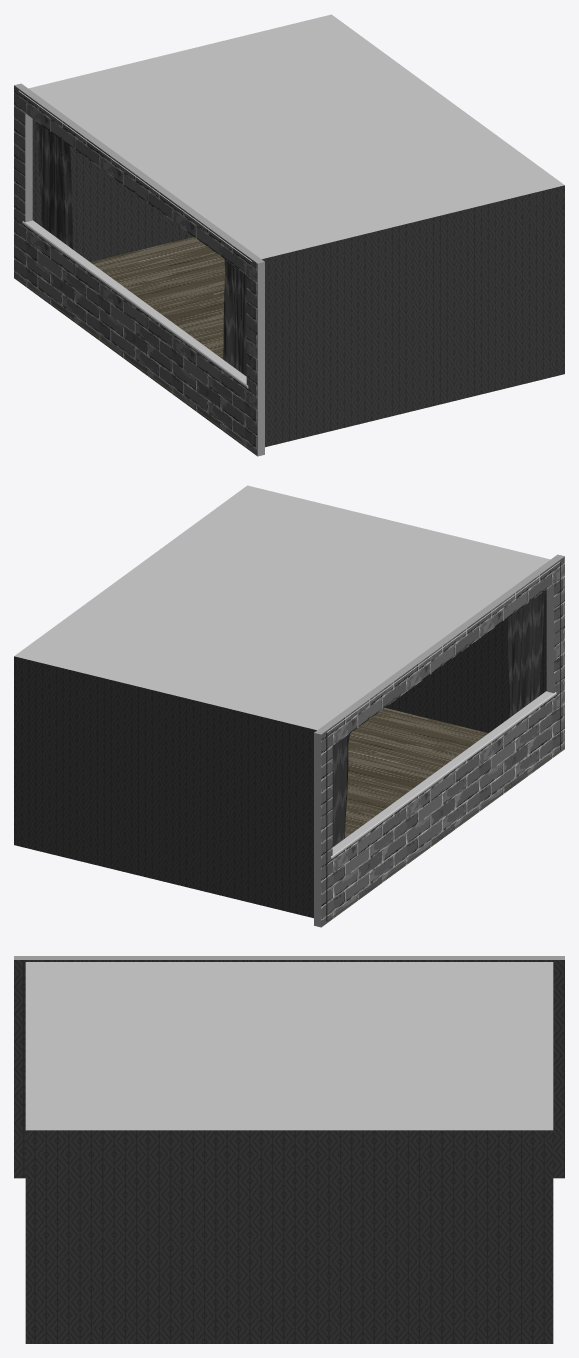
File: playerroom 1.fbx
The picture shows the model from 3 angles, top to bottom: view 1: azimuth 30°, elevation 25°; view 2: azimuth 150°, elevation 25°; view 3: azimuth 270°, elevation 25°; orthographic projection. The views are drawn at different scales.
Visible parts, largest first — view 1: Player_Room; view 2: Player_Room; view 3: Player_Room.
Part boxes in pixels (box(x1,y1,x2,y2)): Player_Room: box(14, 14, 564, 456); Player_Room: box(14, 485, 564, 927); Player_Room: box(14, 956, 564, 1343).
Bounding box in the file's own units: 32.55 × 19.15 × 43.83.
